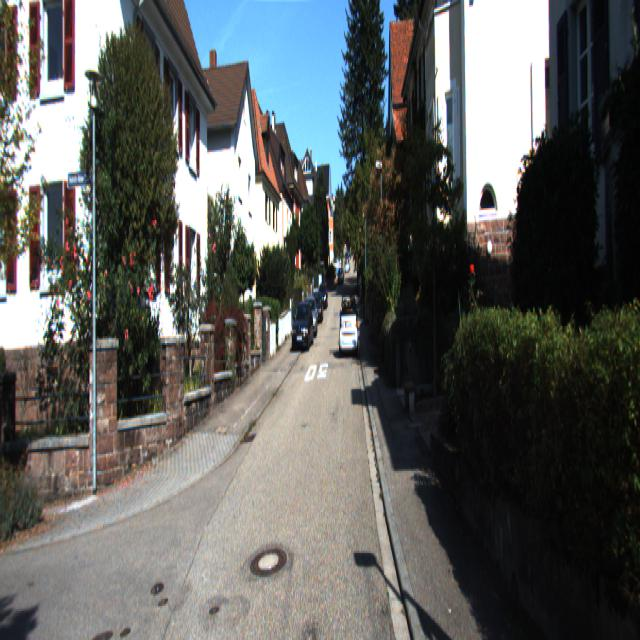Car: (290, 301, 315, 351), (339, 294, 358, 358)
